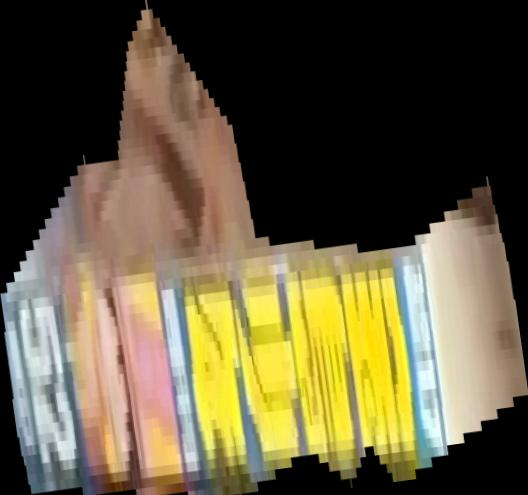flat: (1, 1, 528, 495)
